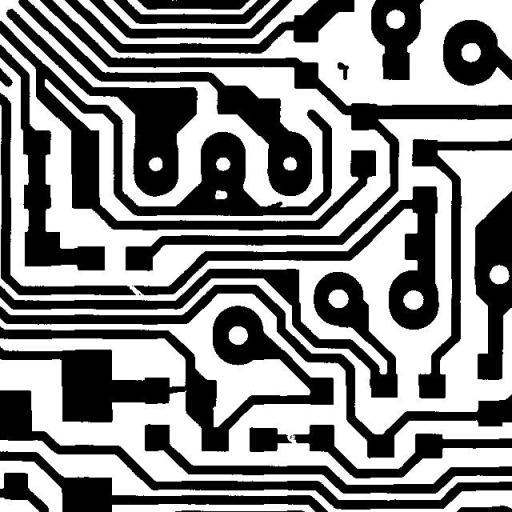copper: (330, 54, 356, 88)
open: (118, 273, 153, 307), (280, 424, 306, 454)
pin-hole: (208, 182, 234, 206)
short: (157, 378, 194, 401)
spur: (258, 194, 290, 218)
